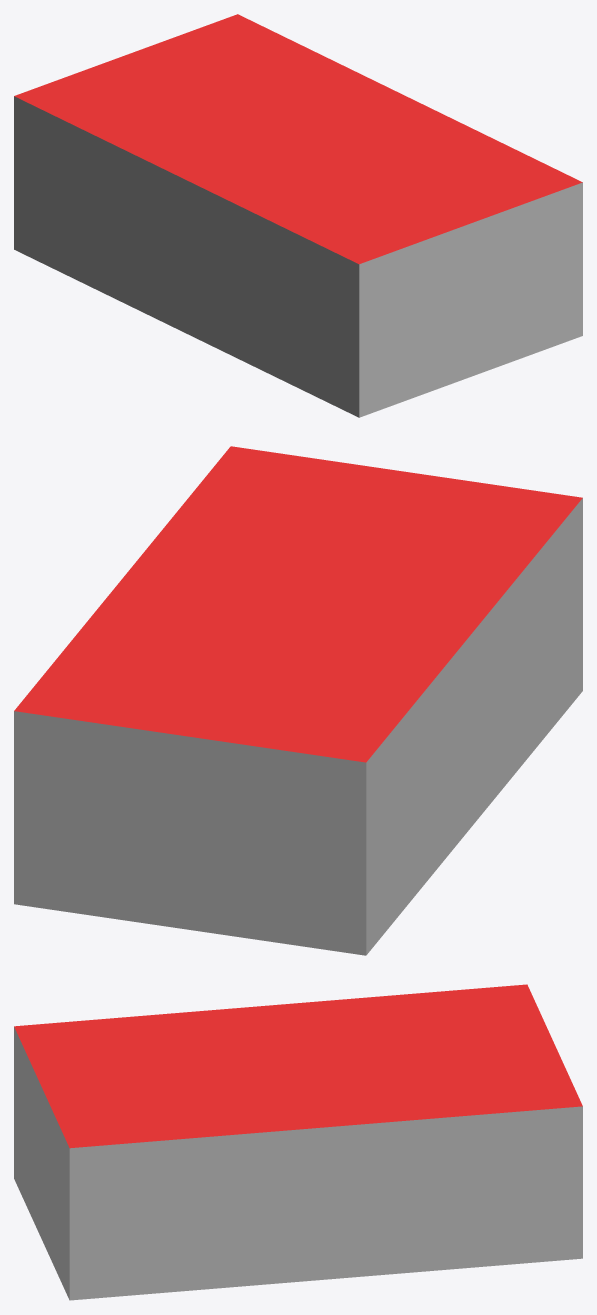
The model's file is DEBY_LOD2_104591634.dae.
The picture shows the model from 3 angles, top to bottom: view 1: azimuth 30°, elevation 25°; view 2: azimuth 150°, elevation 25°; view 3: azimuth 270°, elevation 25°; orthographic projection. The views are drawn at different scales.
Size of the model in its own units: 6.69 by 9.82 by 2.9.
